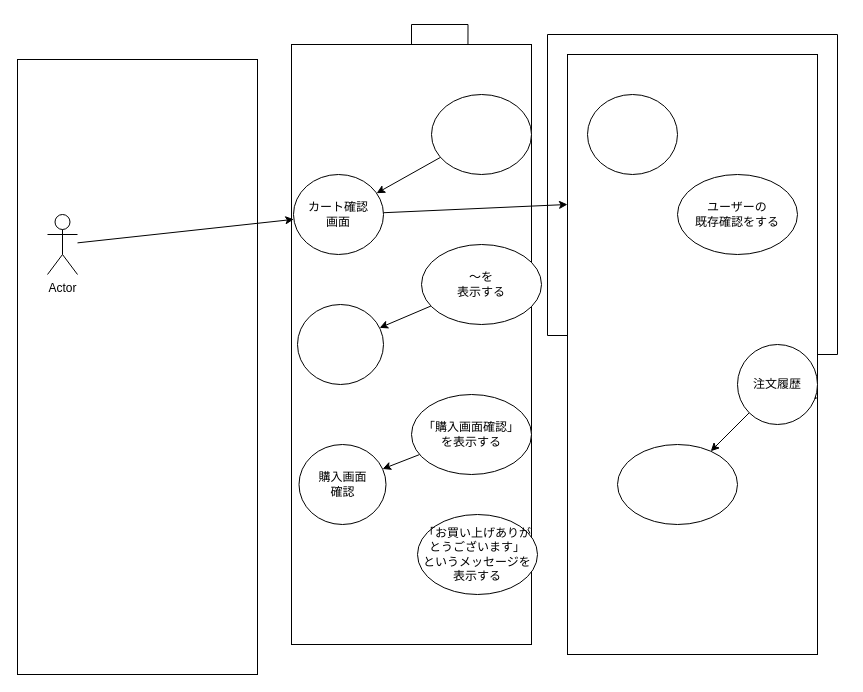
Some shapes in this 863 by 692 pixel diagram are drawn without their labels. The box of each missing label's shape, as (x1, y1, x2, y2) in pixels:
カート画面確認 を表示する: (430, 94, 532, 174)
カート？: (586, 94, 678, 174)
注文を 確定させる: (616, 444, 738, 524)
～画面: (296, 304, 384, 384)
